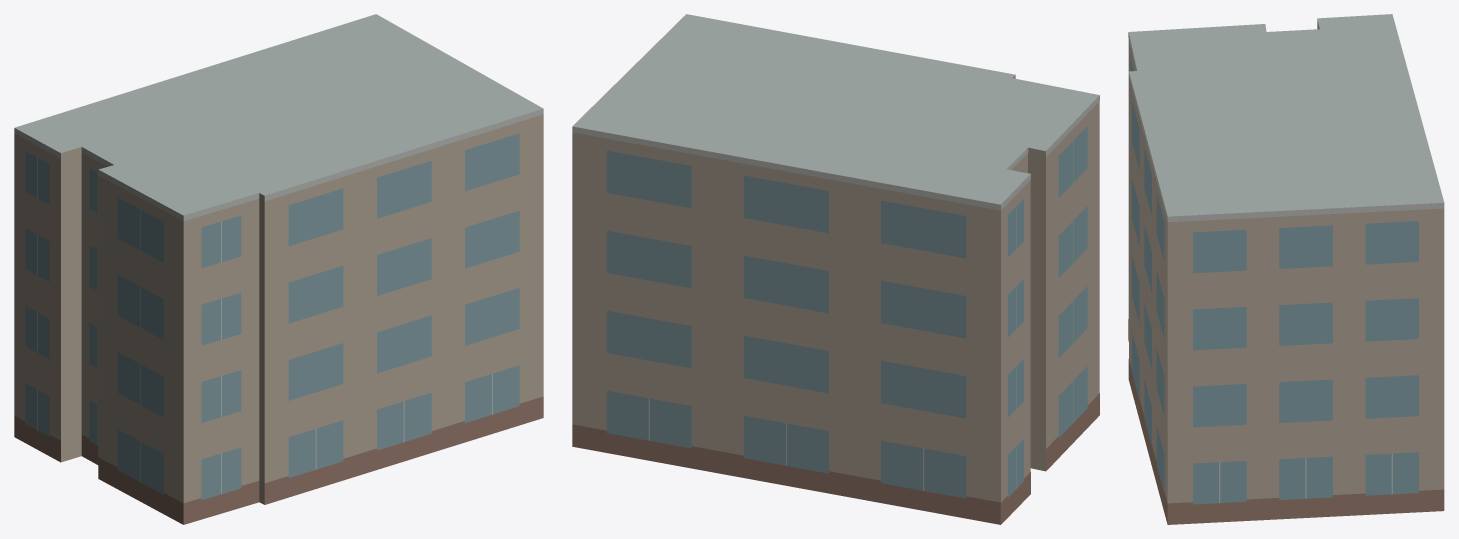
Rendered from survey-upis-32475004.glb.
3 renders of one model, left to right at view 1: azimuth 30°, elevation 25°; view 2: azimuth 150°, elevation 25°; view 3: azimuth 270°, elevation 25°, orthographic. The views are drawn at different scales.
Visible parts, largest first — view 1: survey-upis-32475004.tmp; view 2: survey-upis-32475004.tmp; view 3: survey-upis-32475004.tmp.
Boxes of the visible parts, x1=… form: survey-upis-32475004.tmp: x1=14, y1=14, x2=543, y2=524; survey-upis-32475004.tmp: x1=572, y1=14, x2=1099, y2=524; survey-upis-32475004.tmp: x1=1128, y1=14, x2=1444, y2=524.
Size of the model in its own units: 18.76 by 13.3 by 12.36.
